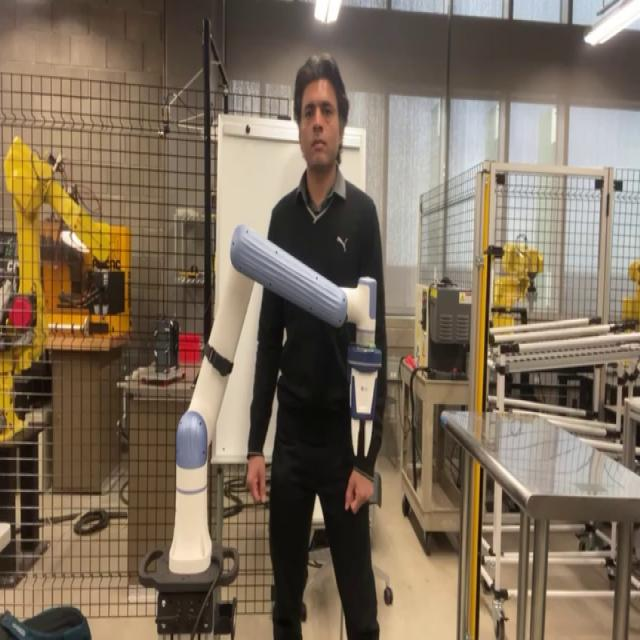robot: (158, 200, 389, 594)
